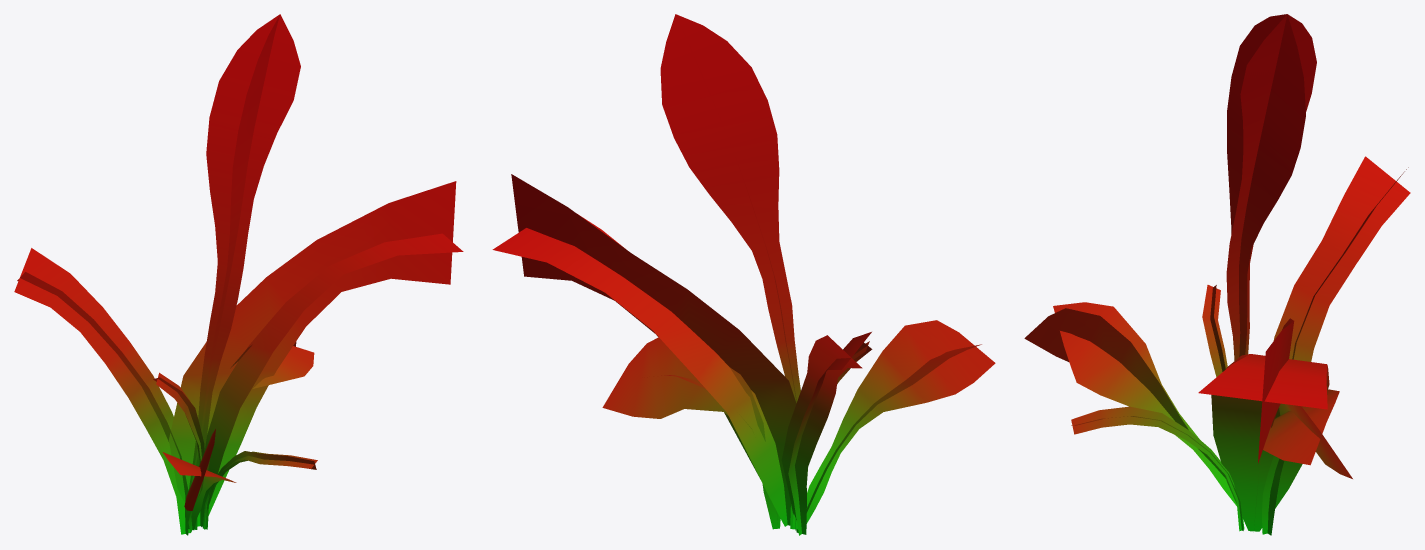
The model's file is Green Herb_LOD1_Var5_tbbpaier.fbx.
3 renders of one model, left to right at view 1: azimuth 30°, elevation 25°; view 2: azimuth 150°, elevation 25°; view 3: azimuth 270°, elevation 25°, orthographic. The views are drawn at different scales.
Parts seen in each view (by area): view 1: _2601_Var5_LOD1; view 2: _2601_Var5_LOD1; view 3: _2601_Var5_LOD1.
Boxes of the visible parts, bbox=[...] form: _2601_Var5_LOD1: bbox=[14, 14, 463, 535]; _2601_Var5_LOD1: bbox=[492, 14, 995, 535]; _2601_Var5_LOD1: bbox=[1024, 14, 1410, 535].
Bounding box in the file's own units: 11.44 × 13.55 × 8.22.
